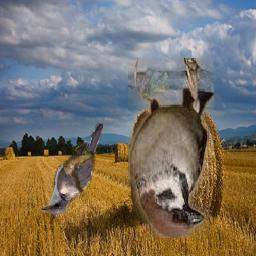Cuckoo: (39, 120, 103, 216)
Sparrow: (128, 58, 214, 238)
